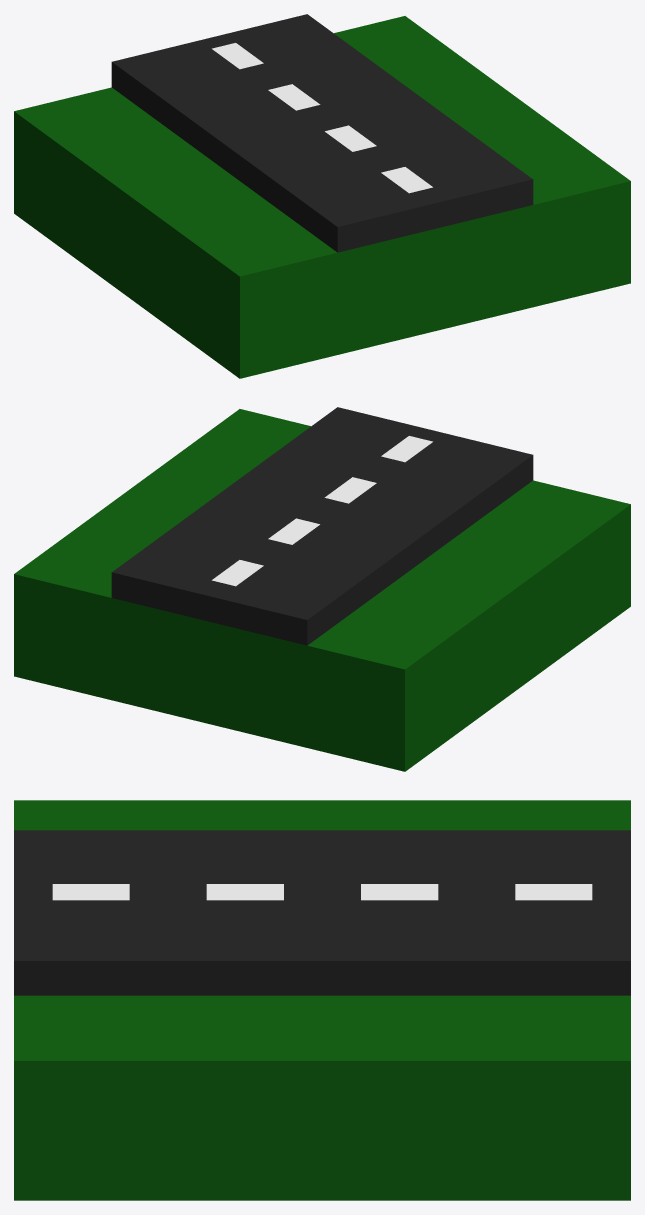
Rendered from road.obj.
3 views of the same model, one above another, from view 1: azimuth 30°, elevation 25°; view 2: azimuth 150°, elevation 25°; view 3: azimuth 270°, elevation 25° (orthographic). The views are drawn at different scales.
Parts seen in each view (by area): view 1: grass, road, plane; view 2: grass, road, plane; view 3: grass, road, plane.
Part boxes in pixels (x1,y1,x2,y2): grass: (14, 16, 630, 378); road: (111, 14, 533, 252); plane: (212, 43, 432, 193); grass: (14, 409, 630, 771); road: (111, 407, 533, 645); plane: (212, 436, 432, 586); grass: (14, 800, 630, 1200); road: (14, 830, 630, 995); plane: (52, 884, 592, 900).
Bounding box in the file's own units: 0.25 × 0.0797 × 0.25.
1 material, 1 textured.
